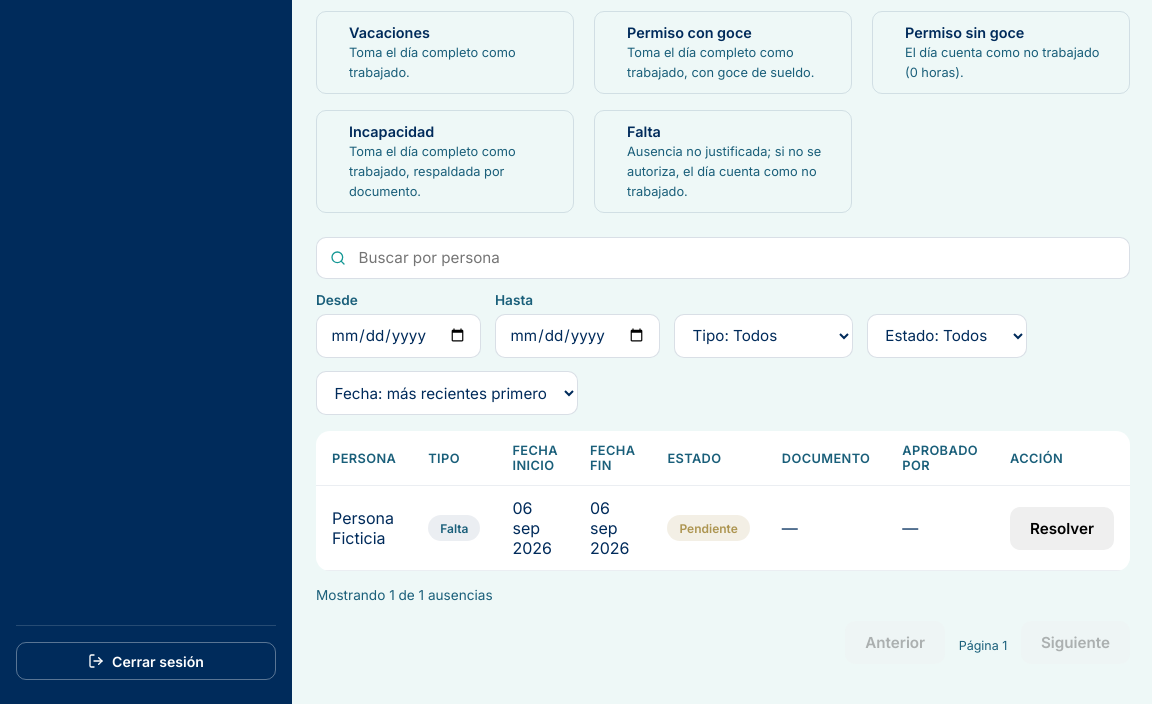
Test: BandejaAusenciasPage › cancelar cierra la fila sin disparar POST
(page scrolled)
Expected: the text "Persona Ficticia" is shown, [316,486,412,571]
What coordinates should you click on to do the following:
click the button "Resolver"
I would click on:
 (1062, 528)
Its box is [1010,507,1114,550].
(page scrolled)
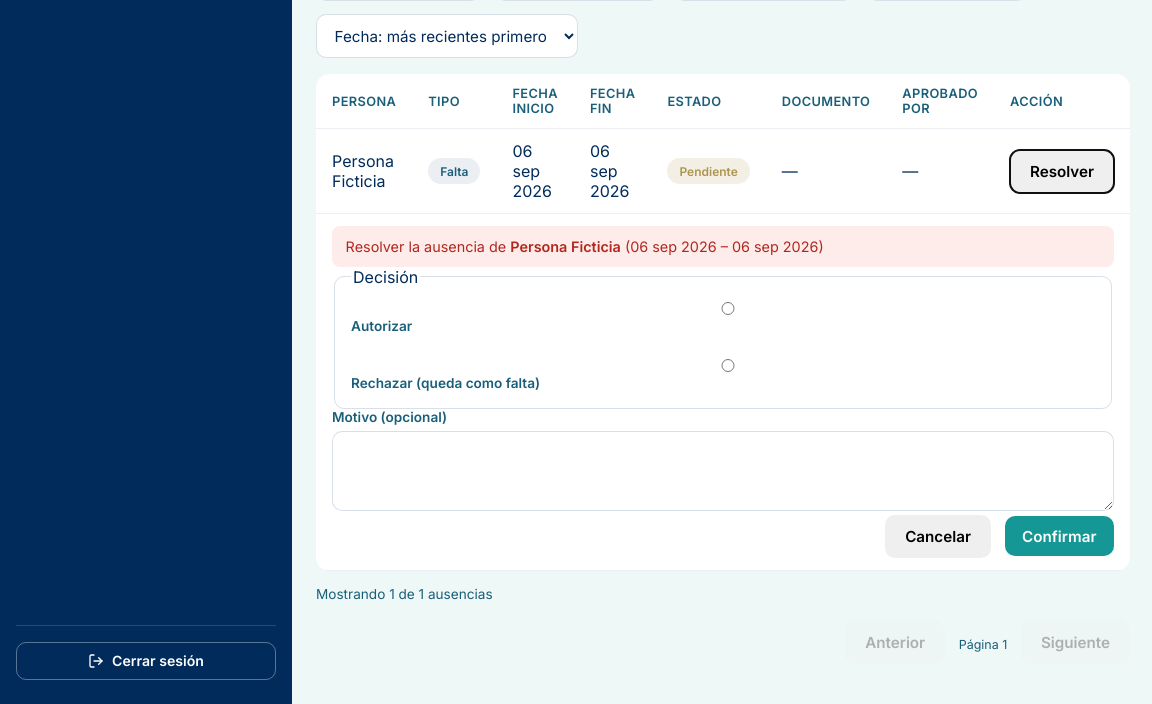
What coordinates should you click on to do the following:
click the button "Cancelar"
I would click on:
 (938, 536)
Its box is [885,515,991,558].
(page scrolled)
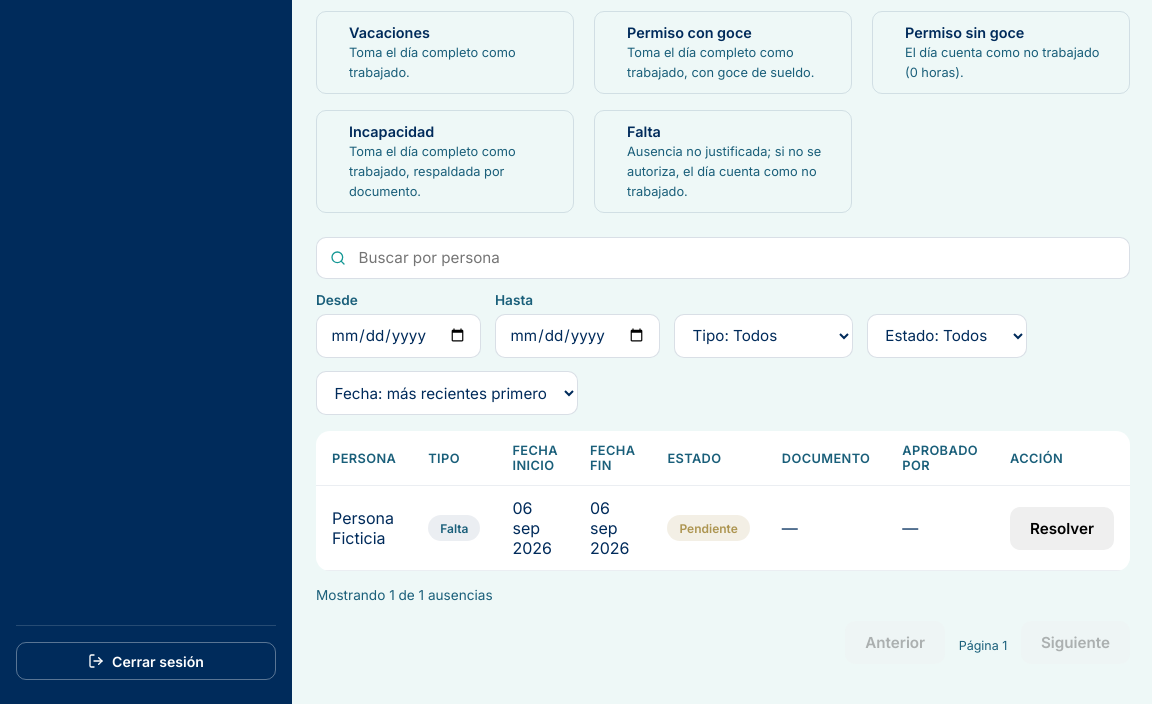
Now the text "Resolver la ausencia de" is gone
